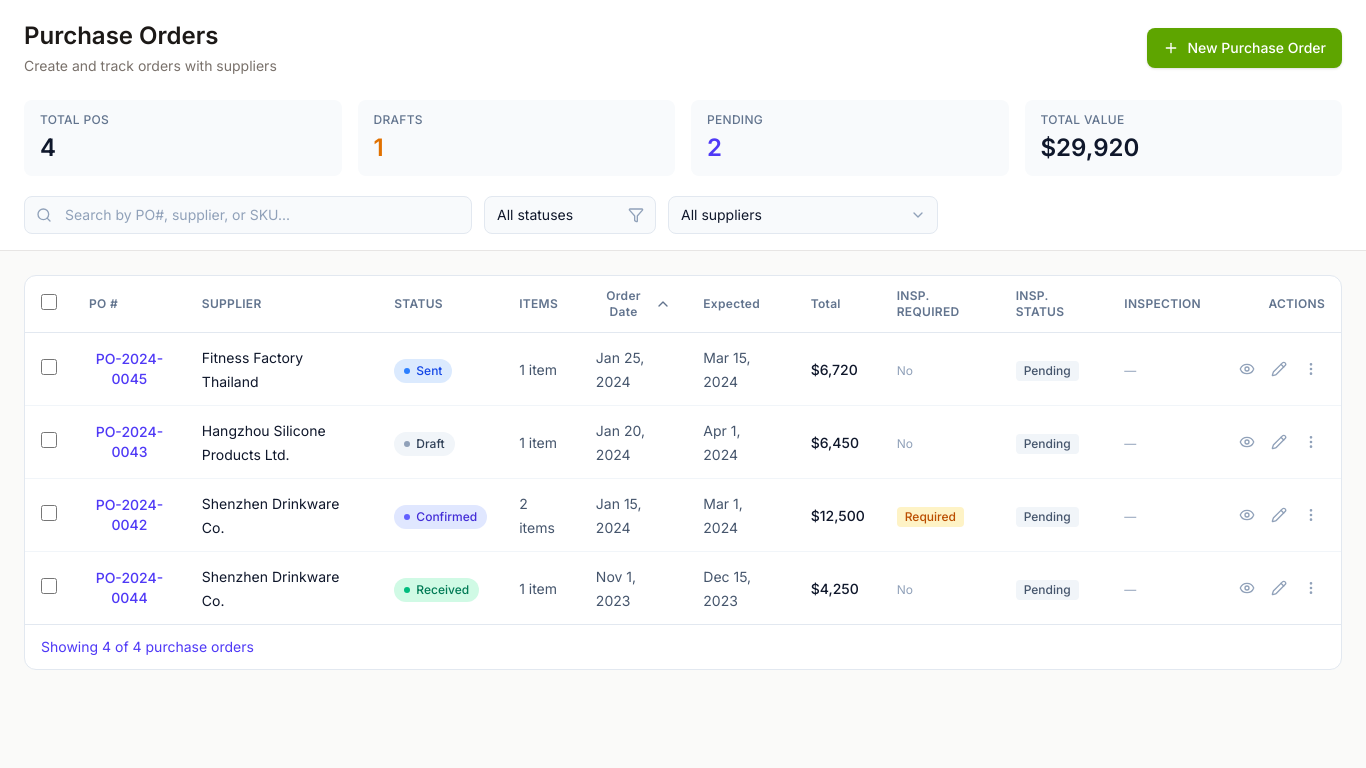
Purchase Orders - Empty States › shows no results message when filter returns empty
Type "NONEXISTENT" into the field with placeholder "Search by PO#, supplier, or SKU..." at (248, 215), box left=24, top=196, right=472, bottom=234
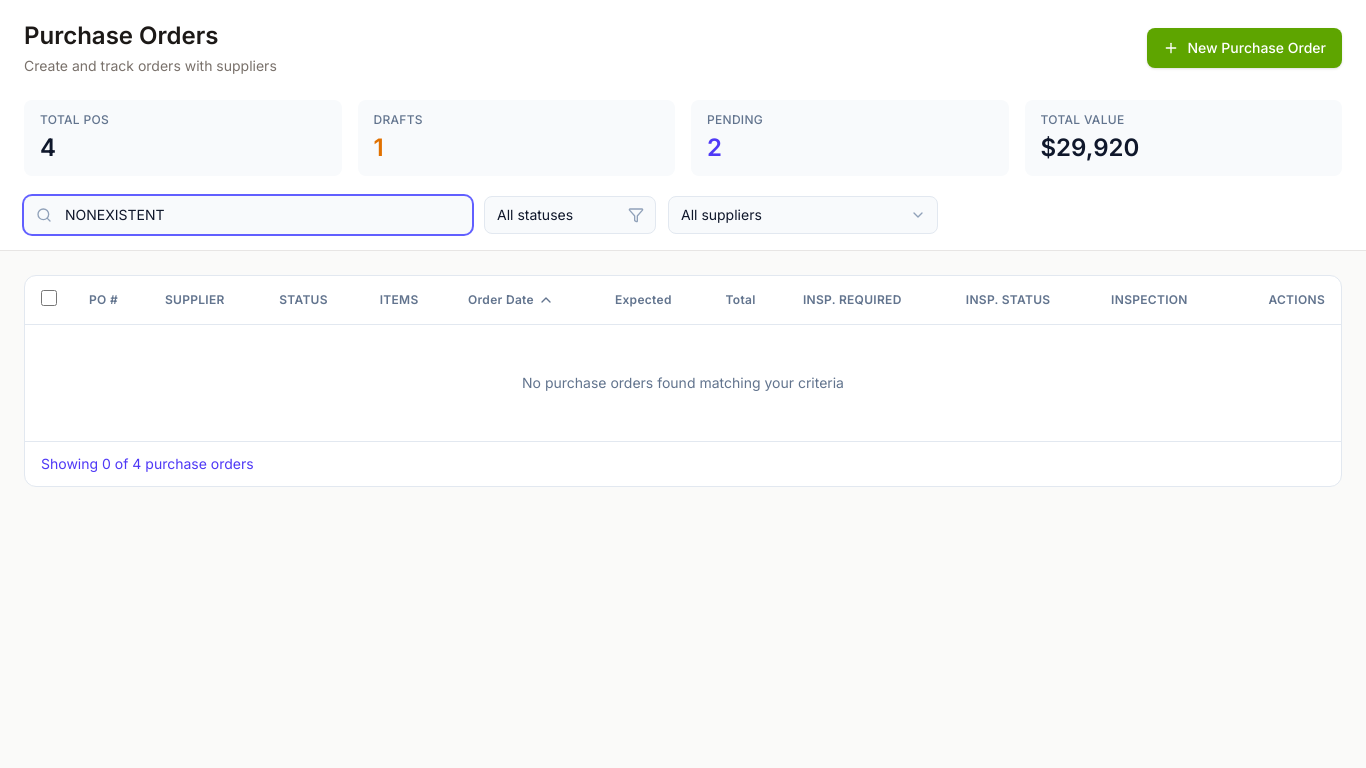
Expected: the text "No purchase orders found matching your criteria" is shown, left=522, top=374, right=844, bottom=391
